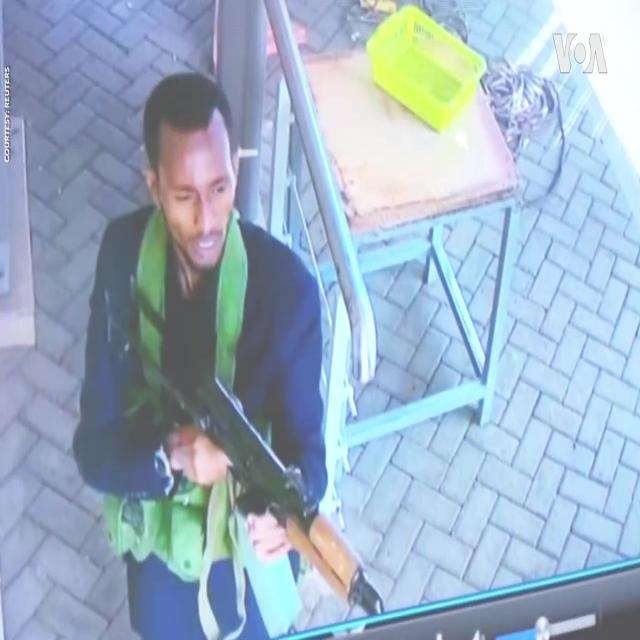Weapon: (87, 237, 408, 640)
